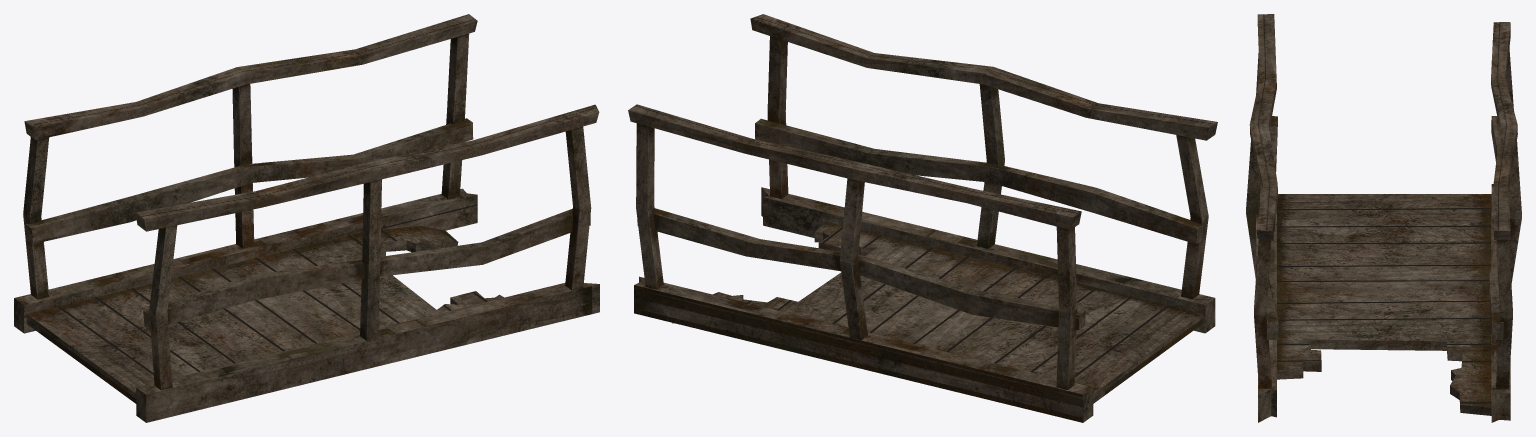
Rendered from forest_wooden_path-bridge_tile_broken_2.glb.
3 views of the same model, side by side, from view 1: azimuth 30°, elevation 25°; view 2: azimuth 150°, elevation 25°; view 3: azimuth 270°, elevation 25° (orthographic). The views are drawn at different scales.
Visible parts, largest first — view 1: Cube.004; view 2: Cube.004; view 3: Cube.004.
Boxes of the visible parts, x1,y1,x2,y2 form: Cube.004: [14, 14, 599, 422]; Cube.004: [628, 14, 1217, 422]; Cube.004: [1246, 14, 1521, 422].
Size of the model in its own units: 2.03 by 0.9036 by 1.1.
1 material, 1 textured.
